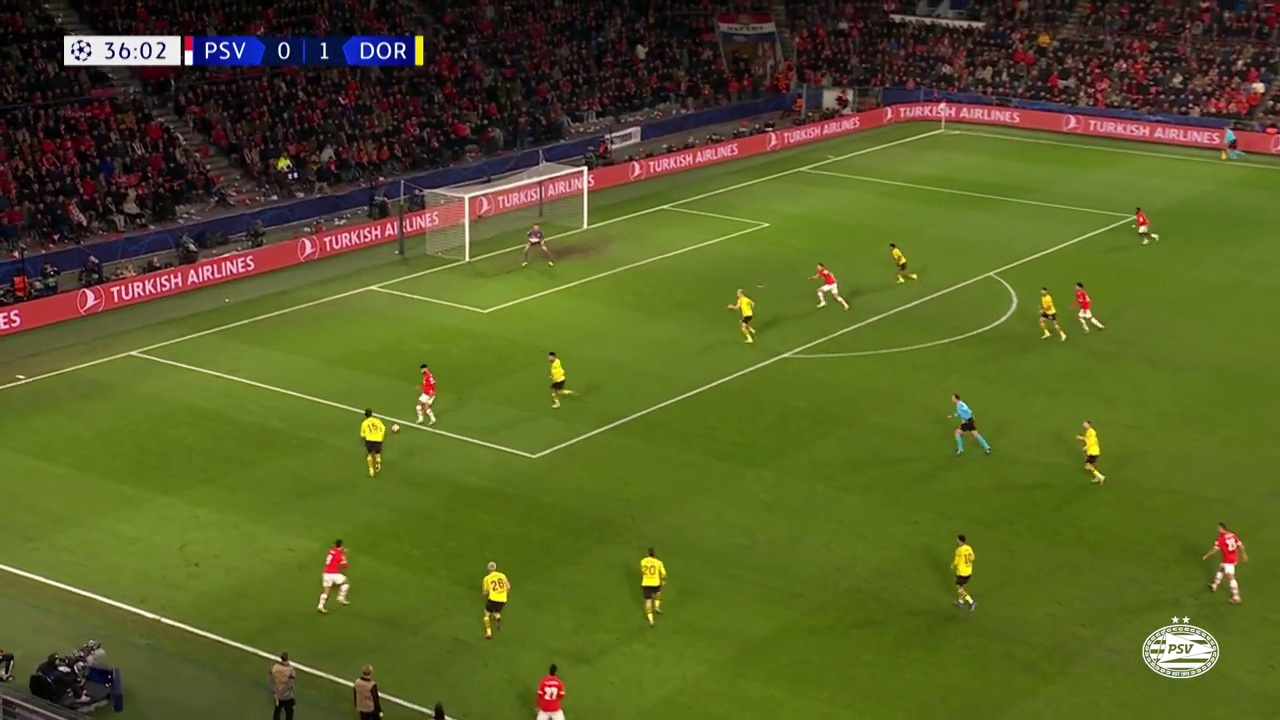ball: (250, 488, 267, 504)
